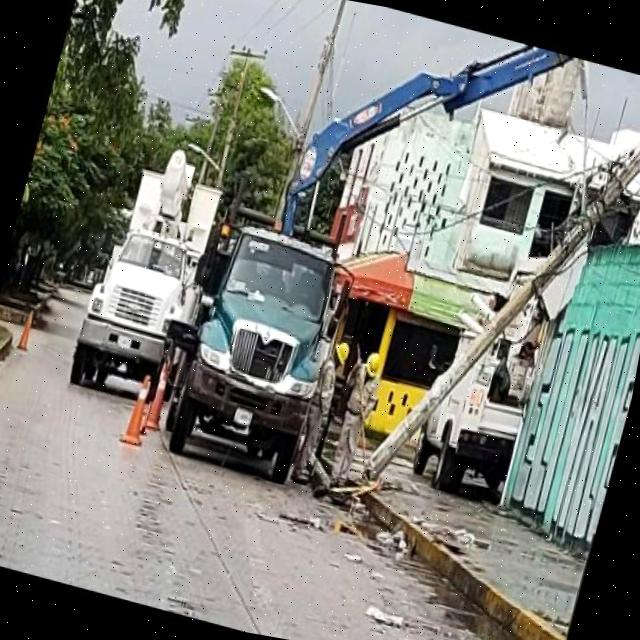Broken Pole: (364, 60, 640, 479)
